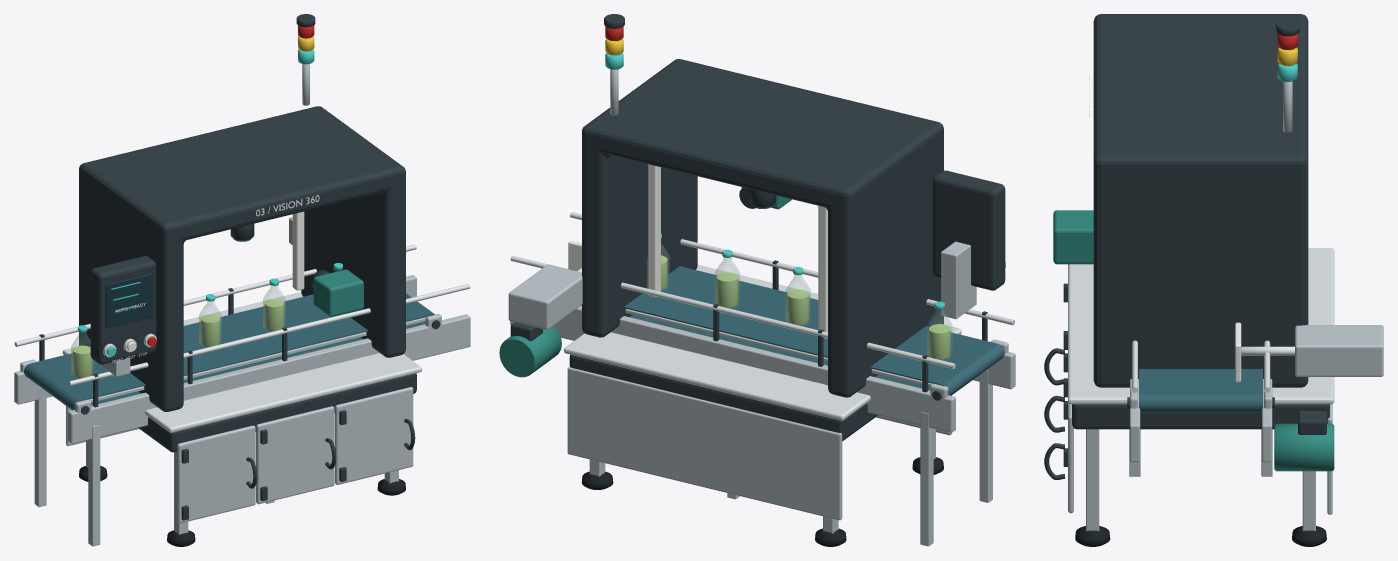
The model's file is vision.glb.
The picture shows the model from 3 angles, left to right: view 1: azimuth 30°, elevation 25°; view 2: azimuth 150°, elevation 25°; view 3: azimuth 270°, elevation 25°; orthographic projection. The views are drawn at different scales.
Visible parts, largest first — view 1: Folded optical hood, Continuous hygienic PU belt.013, Folded side channel.004, Optical base top, Optical base access door.001, Optical base access door.002, Optical base access door, Optical terminal controller, Optical base chassis, Optical terminal display glass, Side camera, Guide rail.004 (+13 smaller); view 2: Folded optical hood, Optical base rear, Continuous hygienic PU belt.013, Optical base top, Folded side channel.005, Optical terminal controller, Optical base chassis, Reject actuator, Optical terminal mounting bracket, Guide rail.005, Conveyor gearmotor.002, Conveyor support.005 (+13 smaller); view 3: Folded optical hood, Optical base top, Continuous hygienic PU belt.013, Reject actuator, Optical base chassis, Conveyor gearmotor.002, Side camera, Stainless square tube.010, Stainless square tube.011, Motor terminal box.002, Folded side channel.005, Folded side channel.004 (+6 smaller).
Part boxes in pixels (x1,y1,x2,y2): Folded optical hood: (79, 106, 405, 411); Continuous hygienic PU belt.013: (24, 293, 434, 410); Folded side channel.004: (68, 314, 470, 443); Optical base top: (62, 292, 422, 432); Optical base access door.001: (256, 406, 334, 504); Optical base access door.002: (335, 387, 413, 484); Optical base access door: (177, 425, 255, 523); Optical terminal controller: (90, 256, 156, 364); Optical base chassis: (138, 373, 416, 452); Optical terminal display glass: (105, 273, 153, 328); Side camera: (313, 269, 363, 316); Guide rail.004: (68, 284, 470, 385); Folded optical hood: (582, 59, 943, 397); Optical base rear: (567, 367, 842, 520); Continuous hygienic PU belt.013: (581, 266, 1004, 395); Optical base top: (564, 265, 961, 420); Folded side channel.005: (510, 305, 955, 432); Optical terminal controller: (932, 170, 1005, 290); Optical base chassis: (569, 354, 877, 441); Reject actuator: (508, 264, 582, 329); Optical terminal mounting bracket: (941, 241, 976, 319); Guide rail.005: (510, 255, 955, 368); Conveyor gearmotor.002: (499, 325, 561, 377); Conveyor support.005: (727, 412, 933, 546); Folded optical hood: (1093, 14, 1308, 387); Optical base top: (1068, 248, 1334, 404); Continuous hygienic PU belt.013: (1139, 369, 1262, 412); Reject actuator: (1295, 325, 1383, 376); Optical base chassis: (1072, 404, 1329, 429); Conveyor gearmotor.002: (1274, 423, 1334, 471); Side camera: (1053, 210, 1093, 264); Stainless square tube.010: (1086, 429, 1099, 531); Stainless square tube.011: (1302, 471, 1315, 531); Motor terminal box.002: (1298, 411, 1326, 434); Folded side channel.005: (1262, 379, 1272, 462); Folded side channel.004: (1130, 379, 1140, 462).
Size of the model in its own units: 2.75 by 2.74 by 1.64.
